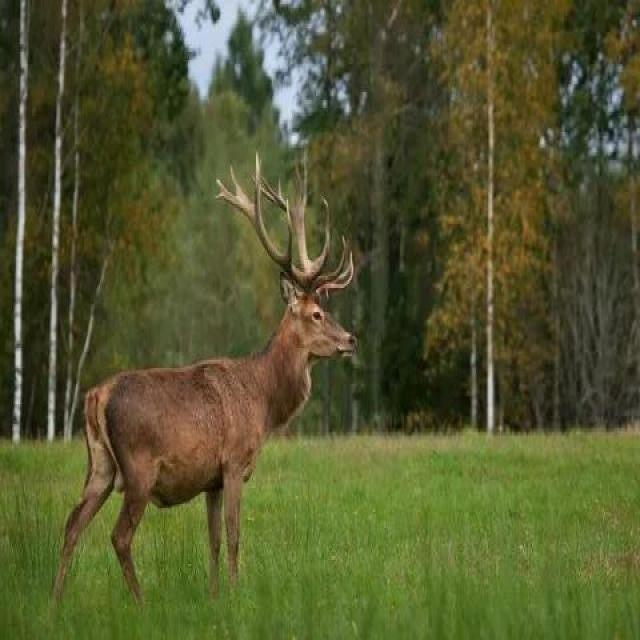deer: (132, 180, 386, 567)
